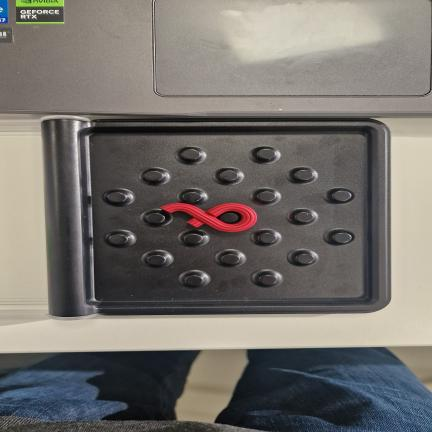J_DarkRed: (161, 203, 257, 232)
board: (41, 119, 391, 318)
hinge: (44, 114, 91, 319)
pin: (219, 170, 239, 182), (220, 212, 240, 224), (332, 190, 352, 202), (332, 232, 352, 244), (146, 254, 166, 266), (257, 148, 276, 160), (144, 170, 163, 182), (294, 169, 313, 181), (146, 212, 165, 224), (296, 253, 315, 265), (181, 149, 201, 160), (107, 192, 127, 203), (182, 192, 202, 203), (294, 212, 314, 223), (108, 234, 128, 245), (257, 191, 276, 202), (184, 233, 203, 244), (221, 254, 240, 265), (259, 274, 278, 285), (185, 275, 204, 286), (258, 233, 276, 244)
